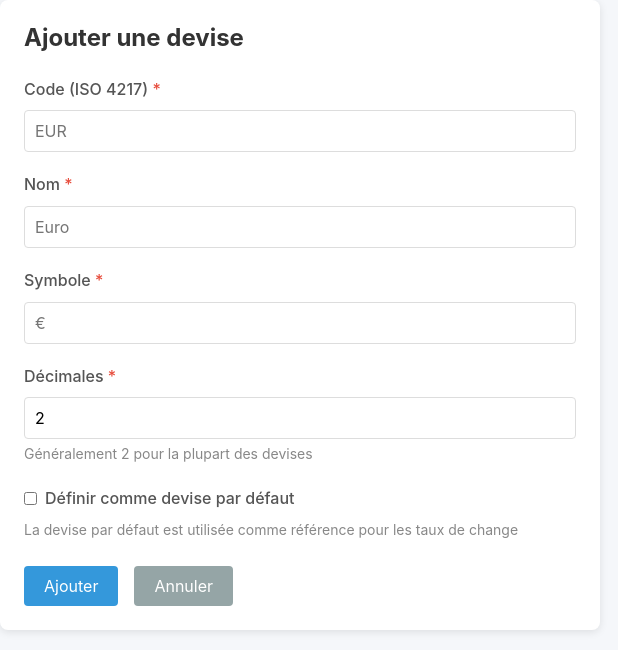
CurrencyForm - Mode Ajout › devrait afficher les suggestions ISO 4217 lors de la saisie du code
Type "US" into the field labelled "Code (ISO 4217) *" at (300, 131), box 24,110 -> 576,152
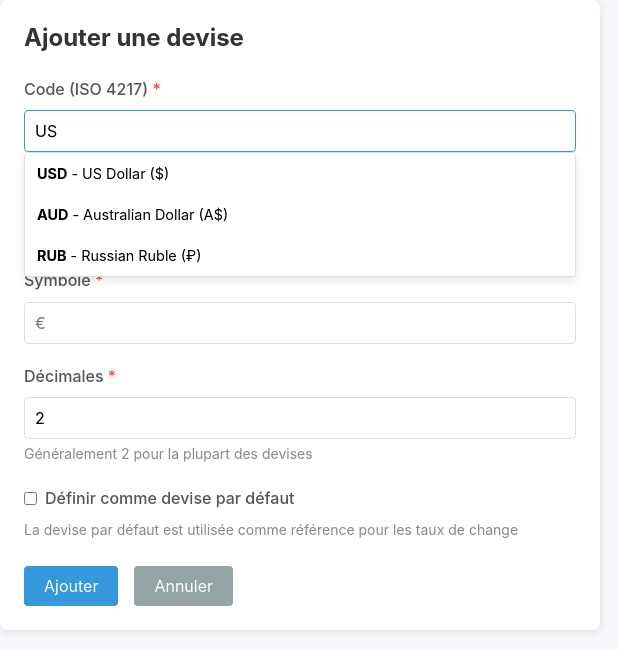
Expected: the text "USD" is shown, 37,165 -> 67,182
